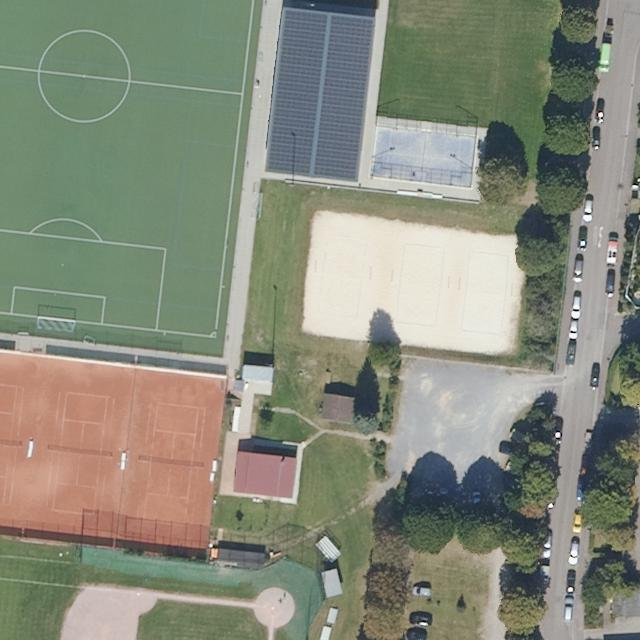PV: (258, 3, 380, 189)
